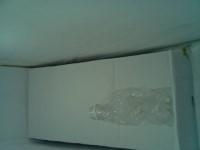bottle: (85, 88, 174, 127)
